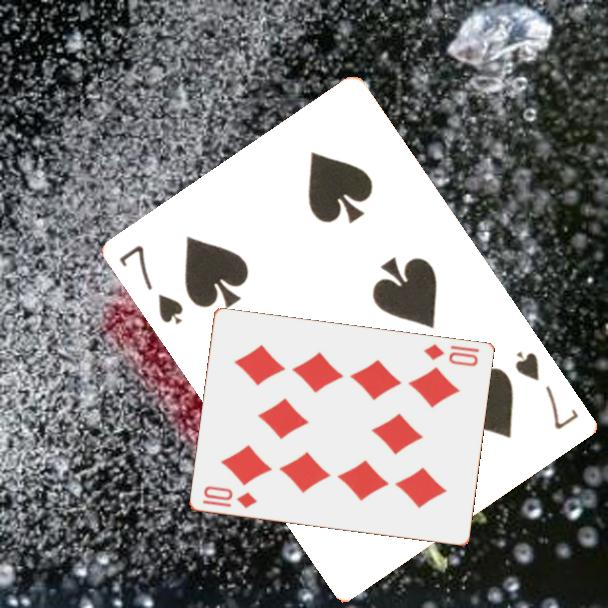d10: (199, 482, 260, 512), (420, 341, 482, 370)
s07: (116, 241, 187, 328), (512, 347, 582, 433)
